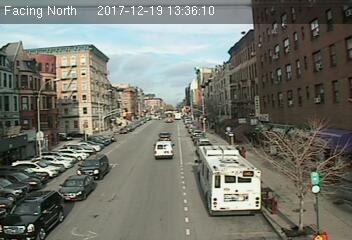bus: (196, 146, 263, 217)
car: (1, 188, 64, 240), (57, 172, 95, 202), (75, 152, 110, 180)
truck: (154, 140, 175, 158)
